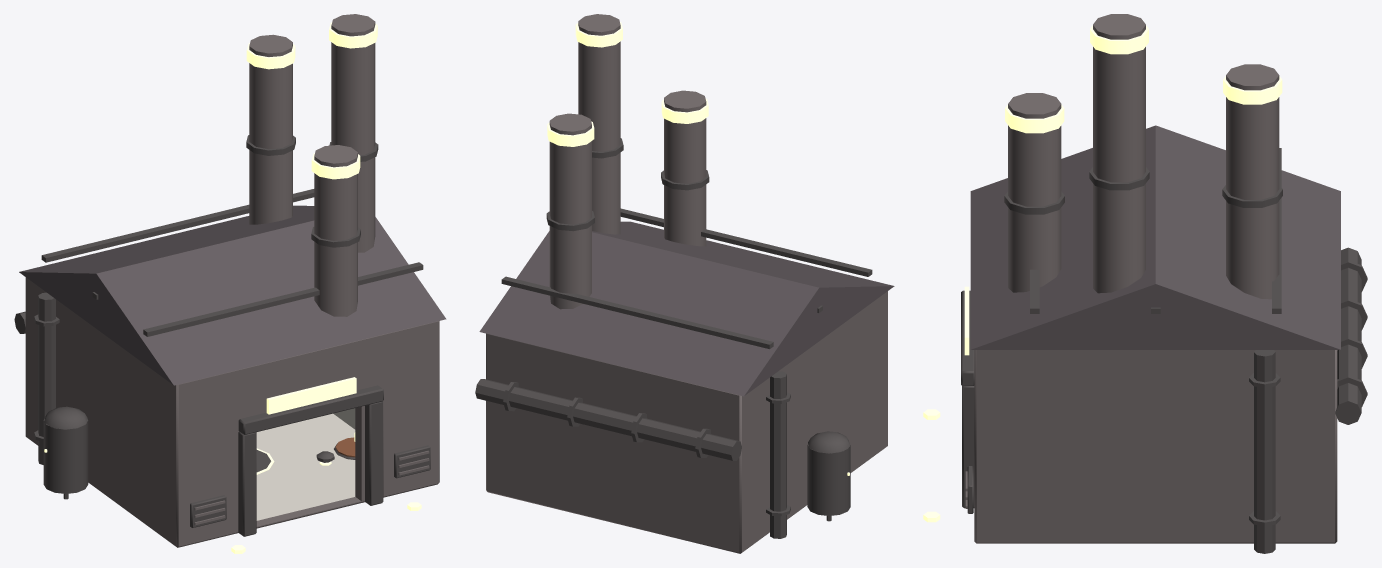
Rendered from CiudadFundicion.fbx.
3 renders of one model, left to right at view 1: azimuth 30°, elevation 25°; view 2: azimuth 150°, elevation 25°; view 3: azimuth 270°, elevation 25°, orthographic. The views are drawn at different scales.
Visible parts, largest first — view 1: CiudadFundicion_Base_Cuerpo, CiudadFundicion_Base_Techo, CiudadFundicion_Base_Metal, CiudadFundicion_Base_Forro, CiudadFundicion_Base_Luz; view 2: CiudadFundicion_Base_Cuerpo, CiudadFundicion_Base_Techo, CiudadFundicion_Base_Metal, CiudadFundicion_Base_Luz; view 3: CiudadFundicion_Base_Cuerpo, CiudadFundicion_Base_Techo, CiudadFundicion_Base_Metal, CiudadFundicion_Base_Luz.
Boxes of the visible parts, x1,y1,x2,y2 form: CiudadFundicion_Base_Cuerpo: [25, 14, 439, 547]; CiudadFundicion_Base_Techo: [19, 205, 446, 385]; CiudadFundicion_Base_Metal: [14, 135, 430, 536]; CiudadFundicion_Base_Forro: [256, 408, 355, 520]; CiudadFundicion_Base_Luz: [44, 22, 421, 553]; CiudadFundicion_Base_Cuerpo: [486, 14, 887, 553]; CiudadFundicion_Base_Techo: [479, 221, 894, 396]; CiudadFundicion_Base_Metal: [475, 138, 872, 538]; CiudadFundicion_Base_Luz: [547, 22, 849, 475]; CiudadFundicion_Base_Cuerpo: [965, 14, 1337, 543]; CiudadFundicion_Base_Techo: [970, 125, 1340, 349]; CiudadFundicion_Base_Metal: [961, 148, 1367, 553]; CiudadFundicion_Base_Luz: [923, 25, 1282, 522].
Bounding box in the file's own units: 3740 × 4600 × 3670.
